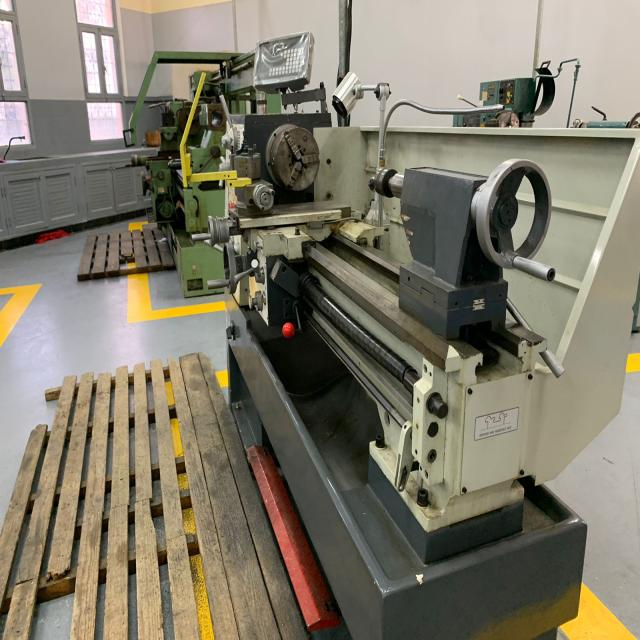tour parallele: (208, 113, 640, 640)
